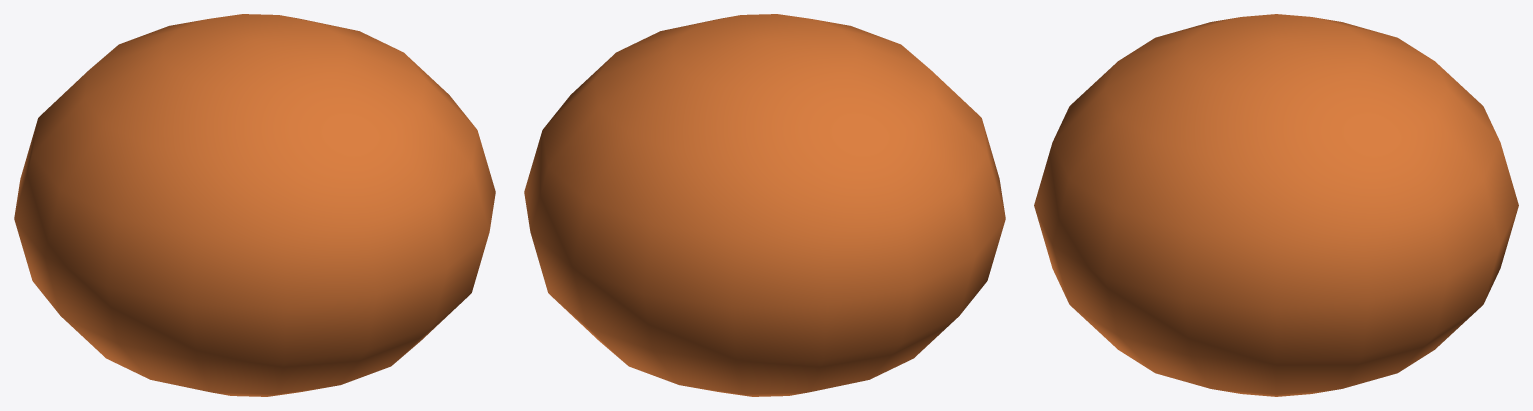
The model's file is buoy.glb.
3 views of the same model, side by side, from view 1: azimuth 30°, elevation 25°; view 2: azimuth 150°, elevation 25°; view 3: azimuth 270°, elevation 25° (orthographic).
Visible parts, largest first — view 1: course-buoy; view 2: course-buoy; view 3: course-buoy.
Part boxes in pixels (<box>): course-buoy: <box>14,14,495,396</box>; course-buoy: <box>524,14,1005,396</box>; course-buoy: <box>1034,14,1518,396</box>.
Bounding box in the file's own units: 0.28 × 0.21 × 0.28.
